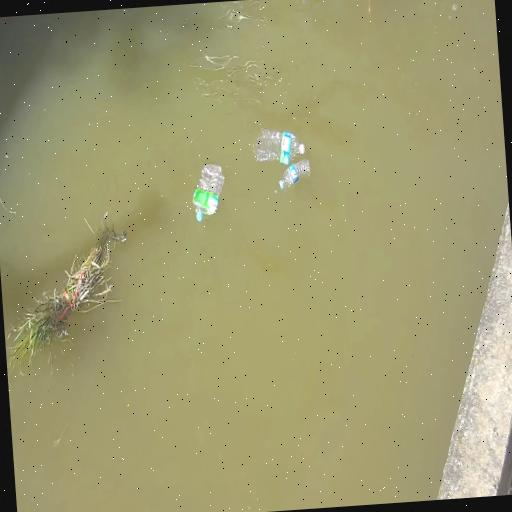plastic: (186, 160, 230, 226), (248, 122, 310, 167), (274, 156, 316, 193), (289, 0, 311, 4)
twig: (6, 232, 120, 356)
